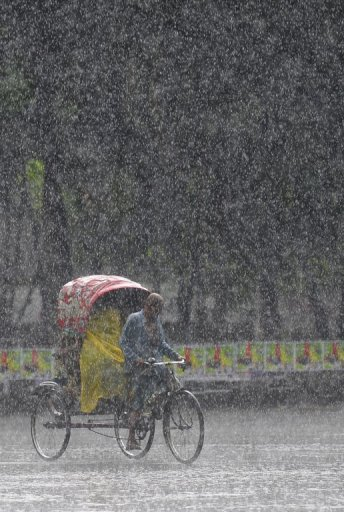Rickshaw: (30, 268, 199, 466)
